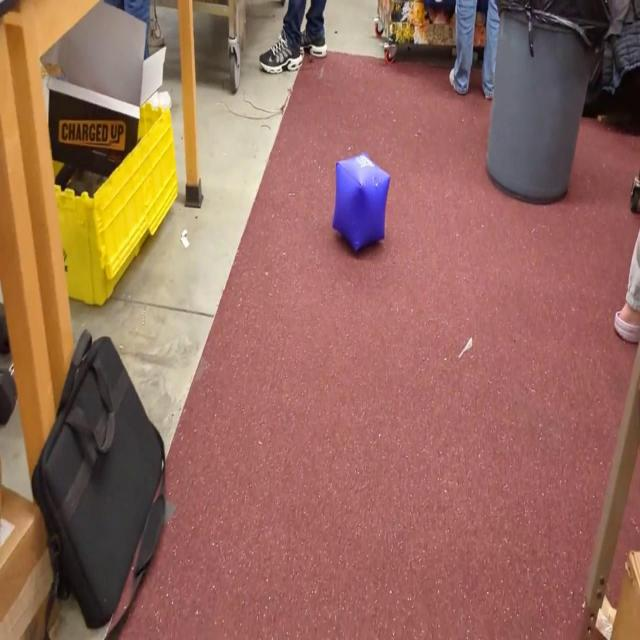frc_cube: (333, 148, 391, 258)
